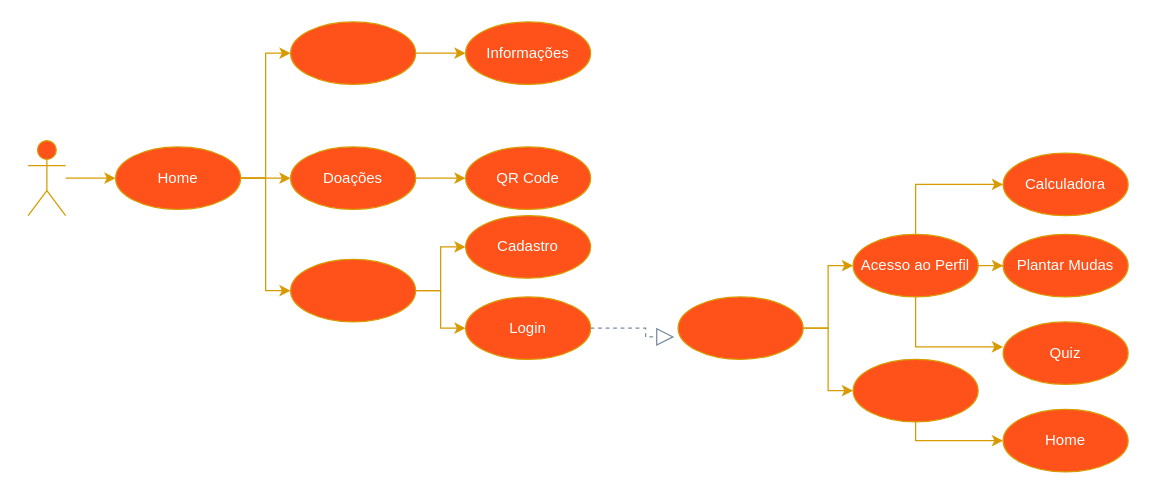
Image size: 1150x494. Some labels were removed from this diagram. The box of each missing label's shape, as (x1, y1, x2, y2) in pixels:
Cadastrar-se: (289, 258, 416, 322)
Sem Login: (852, 358, 978, 422)
Sobre nós: (289, 21, 416, 84)
Usuario: (27, 139, 66, 216)
Verificar Usuário/Senha: (677, 296, 803, 359)
